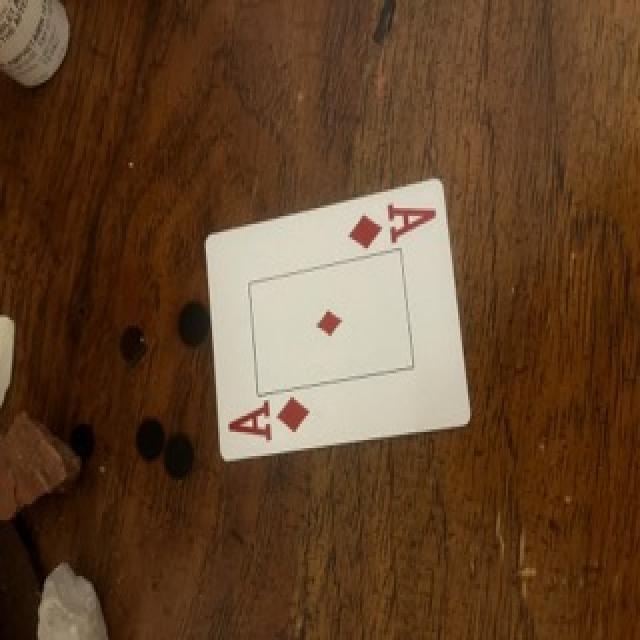Ace of diamonds: (209, 180, 470, 458)
